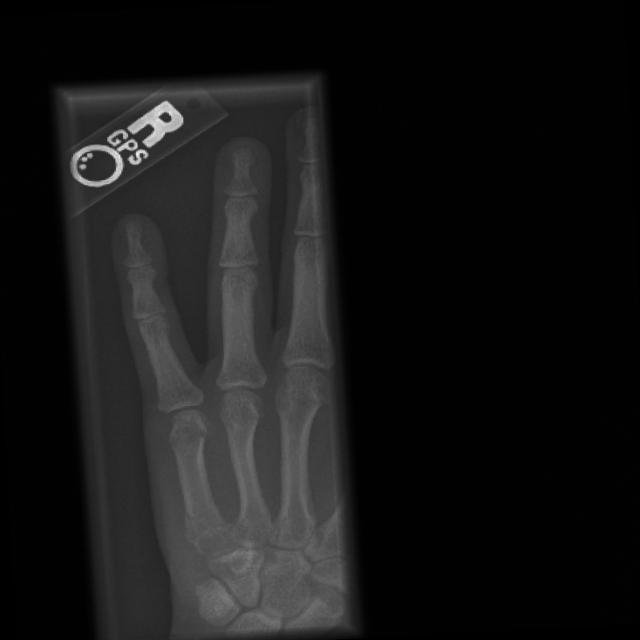fingers positive: (173, 495, 242, 539), (214, 266, 266, 297)
